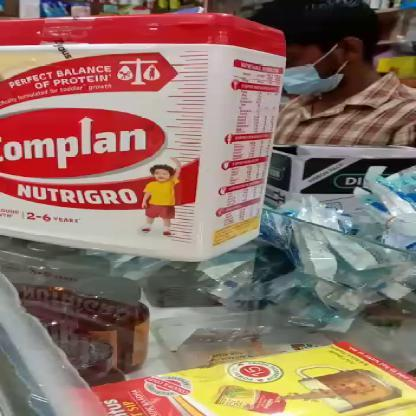Complan Nutrigro Badam Kheer: (0, 20, 259, 248)
